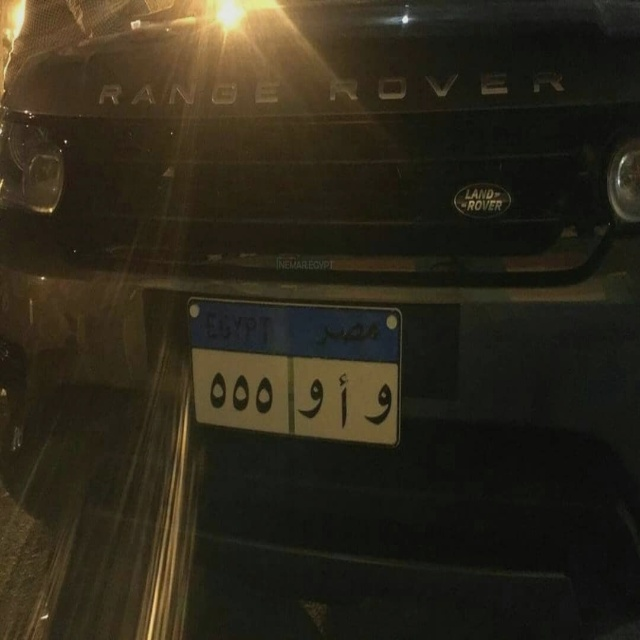License Plate: (185, 293, 405, 452)
